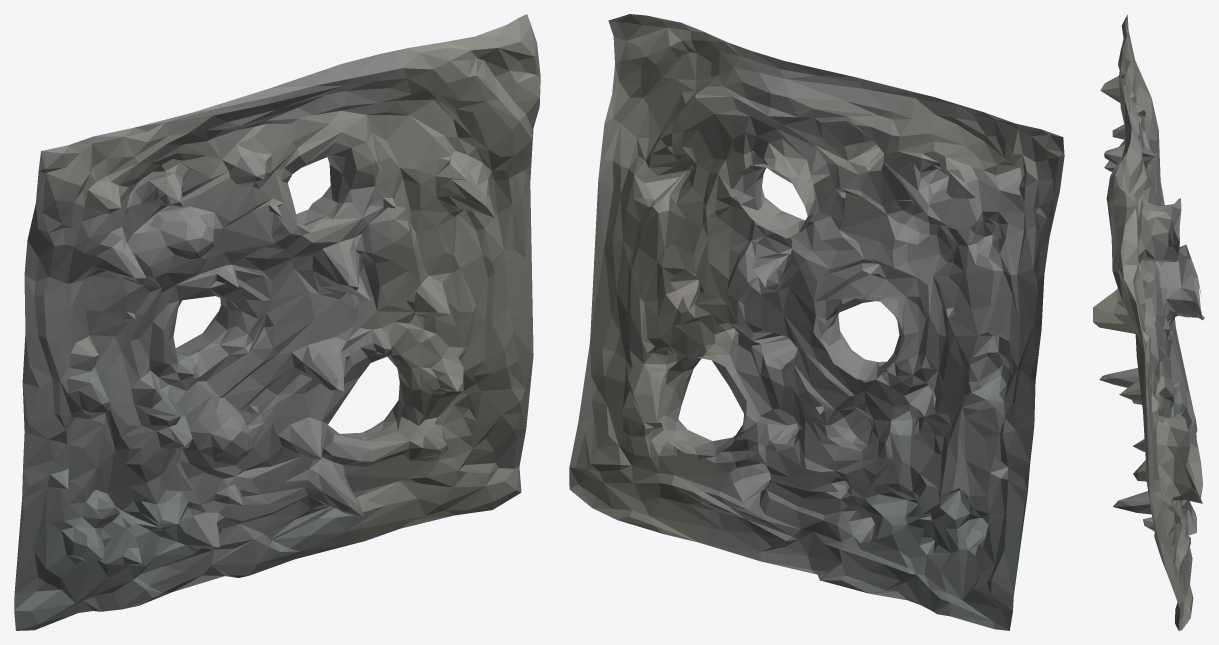
Rendered from Roof.FBX.
3 views of the same model, side by side, from view 1: azimuth 30°, elevation 25°; view 2: azimuth 150°, elevation 25°; view 3: azimuth 270°, elevation 25° (orthographic). The views are drawn at different scales.
Visible parts, largest first — view 1: Group36341; view 2: Group36341; view 3: Group36341.
Boxes of the visible parts, x1,y1,x2,y2 form: Group36341: [14, 14, 540, 630]; Group36341: [569, 14, 1064, 630]; Group36341: [1093, 14, 1204, 630].
Size of the model in its own units: 6657 by 1505 by 6644.
